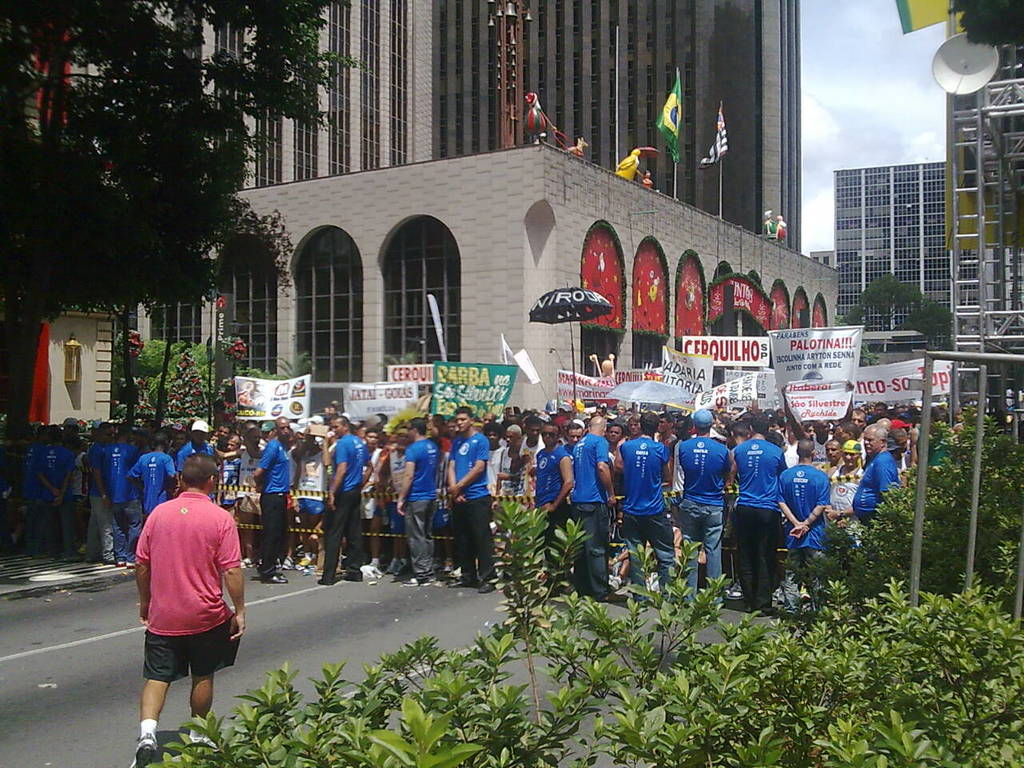Footwear: (134, 735, 156, 767), (380, 560, 397, 578), (449, 580, 472, 590), (241, 554, 257, 568), (476, 582, 498, 592), (266, 574, 286, 584), (402, 578, 425, 586), (282, 554, 293, 570), (609, 574, 618, 590), (126, 560, 137, 572), (344, 576, 366, 582), (317, 578, 333, 586), (116, 560, 126, 570), (744, 604, 756, 612), (757, 604, 769, 612), (369, 562, 380, 570)
